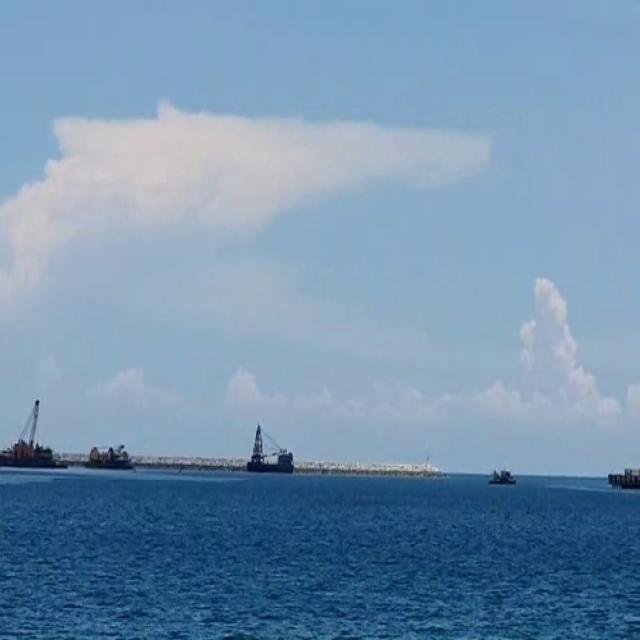civilianship: (3, 386, 76, 491), (248, 401, 299, 483), (88, 433, 148, 488)
